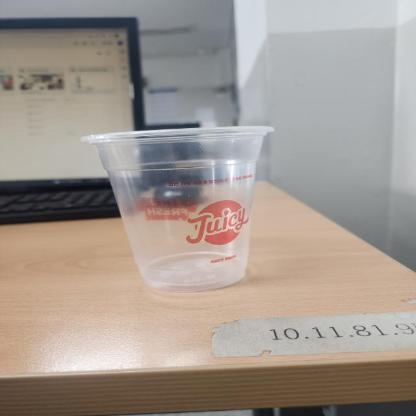Plastic Cup: (82, 124, 278, 292)
